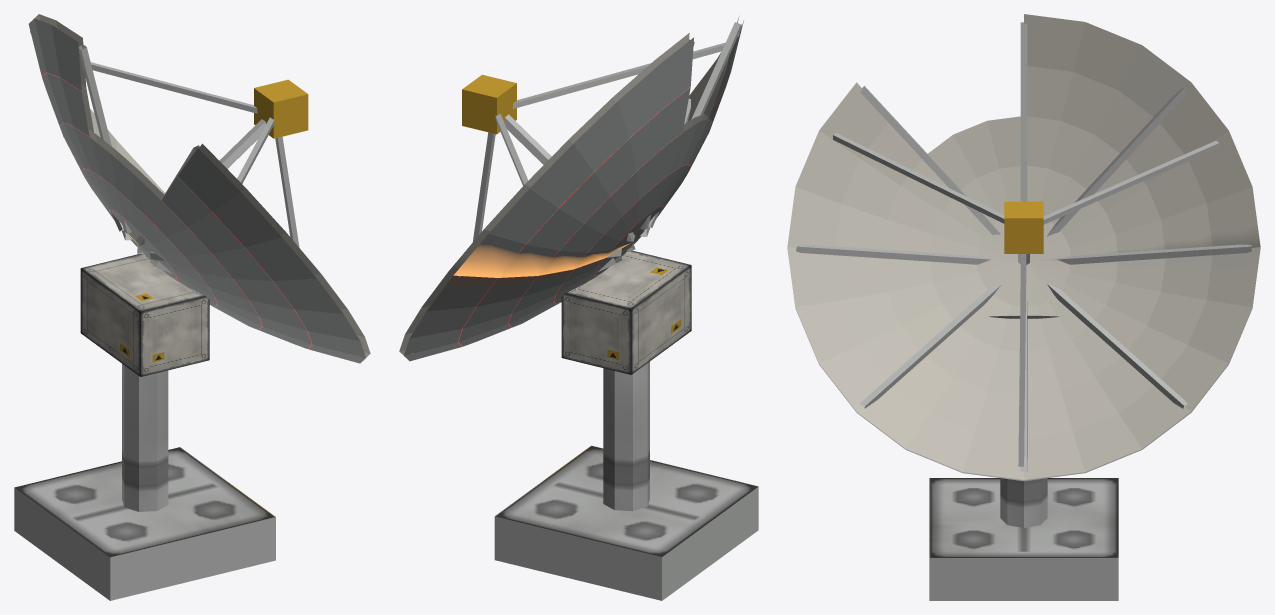
The model's file is part_dish.fbx.
3 renders of one model, left to right at view 1: azimuth 30°, elevation 25°; view 2: azimuth 150°, elevation 25°; view 3: azimuth 270°, elevation 25°, orthographic. The views are drawn at different scales.
Parts seen in each view (by area): view 1: part_dish; view 2: part_dish; view 3: part_dish.
Part boxes in pixels (bbox=[...]): part_dish: bbox=[14, 14, 370, 600]; part_dish: bbox=[399, 16, 758, 600]; part_dish: bbox=[787, 14, 1260, 600].
Size of the model in its own units: 0.374 by 0.7231 by 0.6.
1 material, 1 textured.
